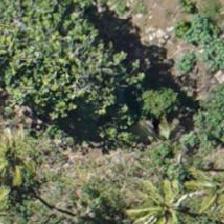coconut_tree: (122, 158, 212, 223), (0, 106, 57, 196), (175, 146, 223, 223)
